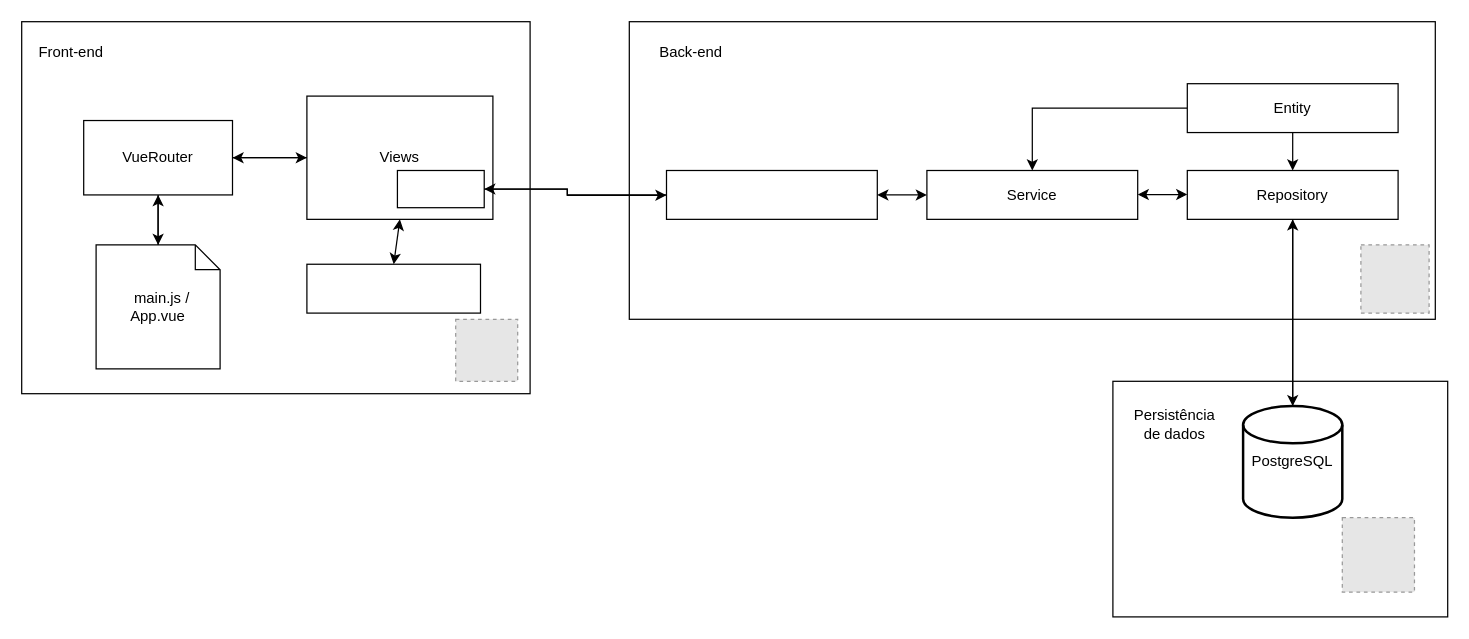
Some shapes in this 1469 by 639 pixel diagram are drawn without their labels. Grey dashed boxes stand in for pictures. Each missing label, with the centre of its shape:
"Axios" belongs at (440,188).
"Components" belongs at (393,288).
"Controller" belongs at (771,194).
